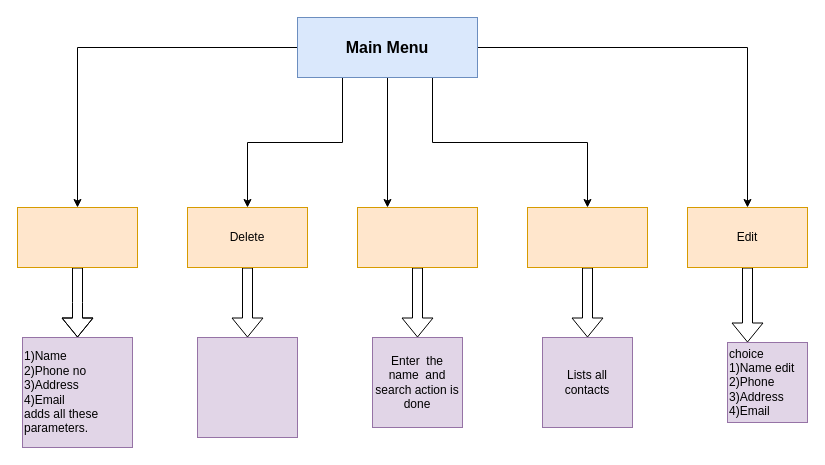
Image size: 825x465. Some labels were removed from this diagram. The box of each missing label's shape, as (x1, y1, x2, y2) in pixels:
Add: (16, 206, 138, 268)
Deletes by asking name: (196, 336, 298, 438)
Search: (356, 206, 478, 268)
View: (526, 206, 648, 268)
